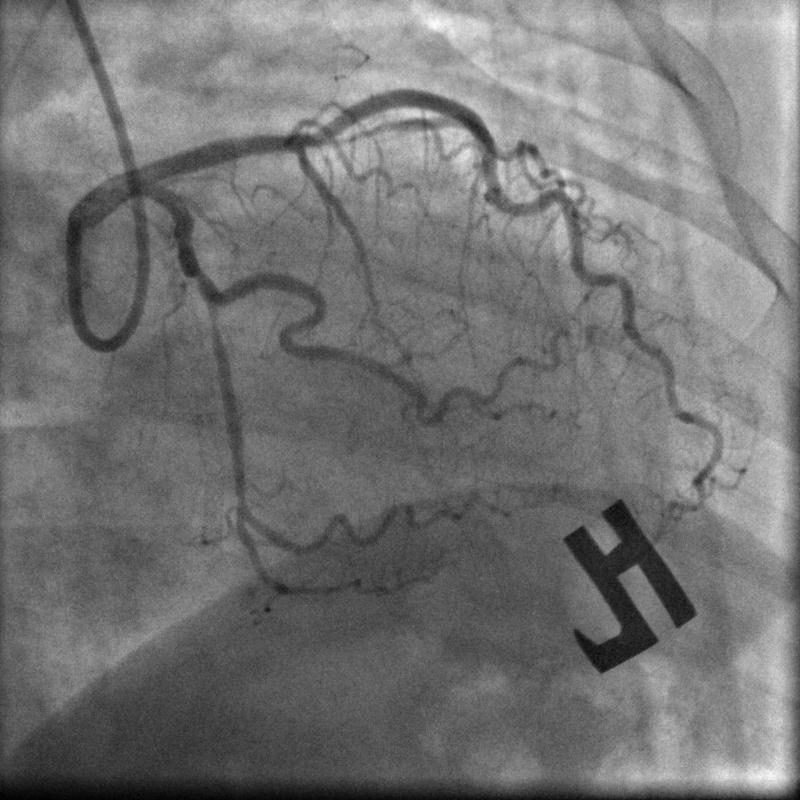Stenosis: (171, 228, 217, 292)
